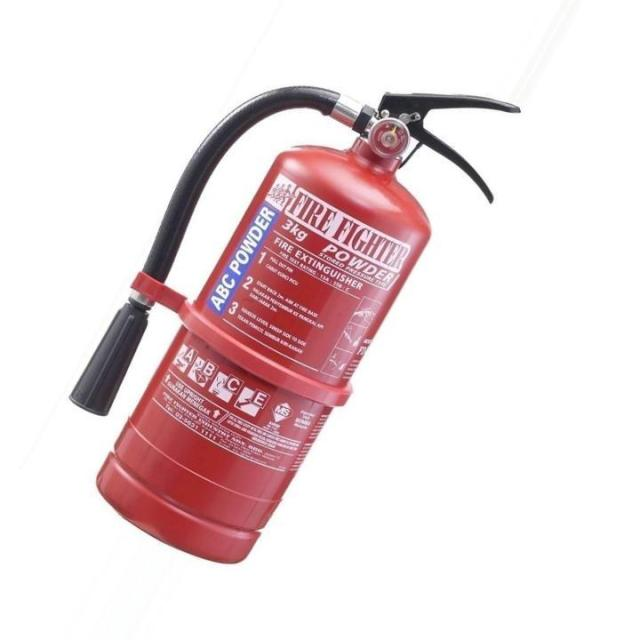fire_extinguisher: (61, 76, 526, 570)
